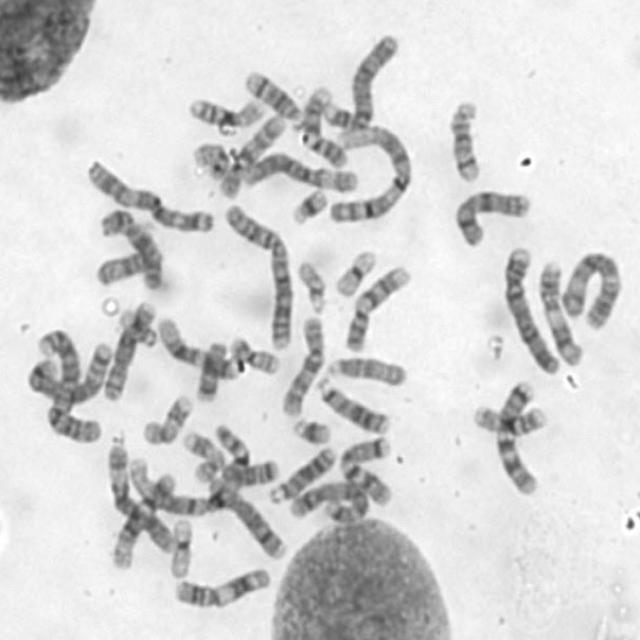A1: (128, 420, 254, 518), (322, 118, 415, 225)
A2: (219, 196, 296, 351), (30, 322, 106, 445)
A3: (80, 152, 217, 235), (555, 244, 624, 330)
B4: (498, 240, 563, 376), (323, 26, 402, 134)
B5: (21, 333, 114, 406), (285, 474, 373, 524)
C10: (216, 109, 288, 200), (276, 309, 328, 418)
C11: (535, 254, 587, 368), (168, 560, 274, 610)
C12: (107, 467, 179, 572), (153, 310, 245, 382)
C6: (101, 433, 178, 556), (236, 146, 362, 194)
C7: (489, 373, 542, 498), (333, 430, 397, 508)
C8: (202, 470, 290, 561), (100, 295, 160, 402)
C9: (340, 258, 414, 353), (296, 78, 351, 169)
D13: (311, 371, 392, 436), (264, 438, 338, 505)
D14: (238, 63, 308, 129), (445, 93, 485, 184)
D15: (320, 349, 410, 388), (91, 242, 156, 288)
E16: (182, 89, 268, 130), (468, 398, 550, 437)
E17: (138, 388, 196, 447), (177, 424, 228, 484)
E18: (191, 334, 229, 404), (219, 451, 282, 487)
F19: (330, 242, 380, 298), (164, 512, 195, 579)
F20: (224, 330, 282, 376), (189, 135, 231, 181)
G21: (286, 181, 331, 226), (288, 410, 335, 446)
G22: (294, 253, 329, 315), (112, 302, 159, 348)
X: (96, 203, 168, 291), (449, 183, 534, 248)
